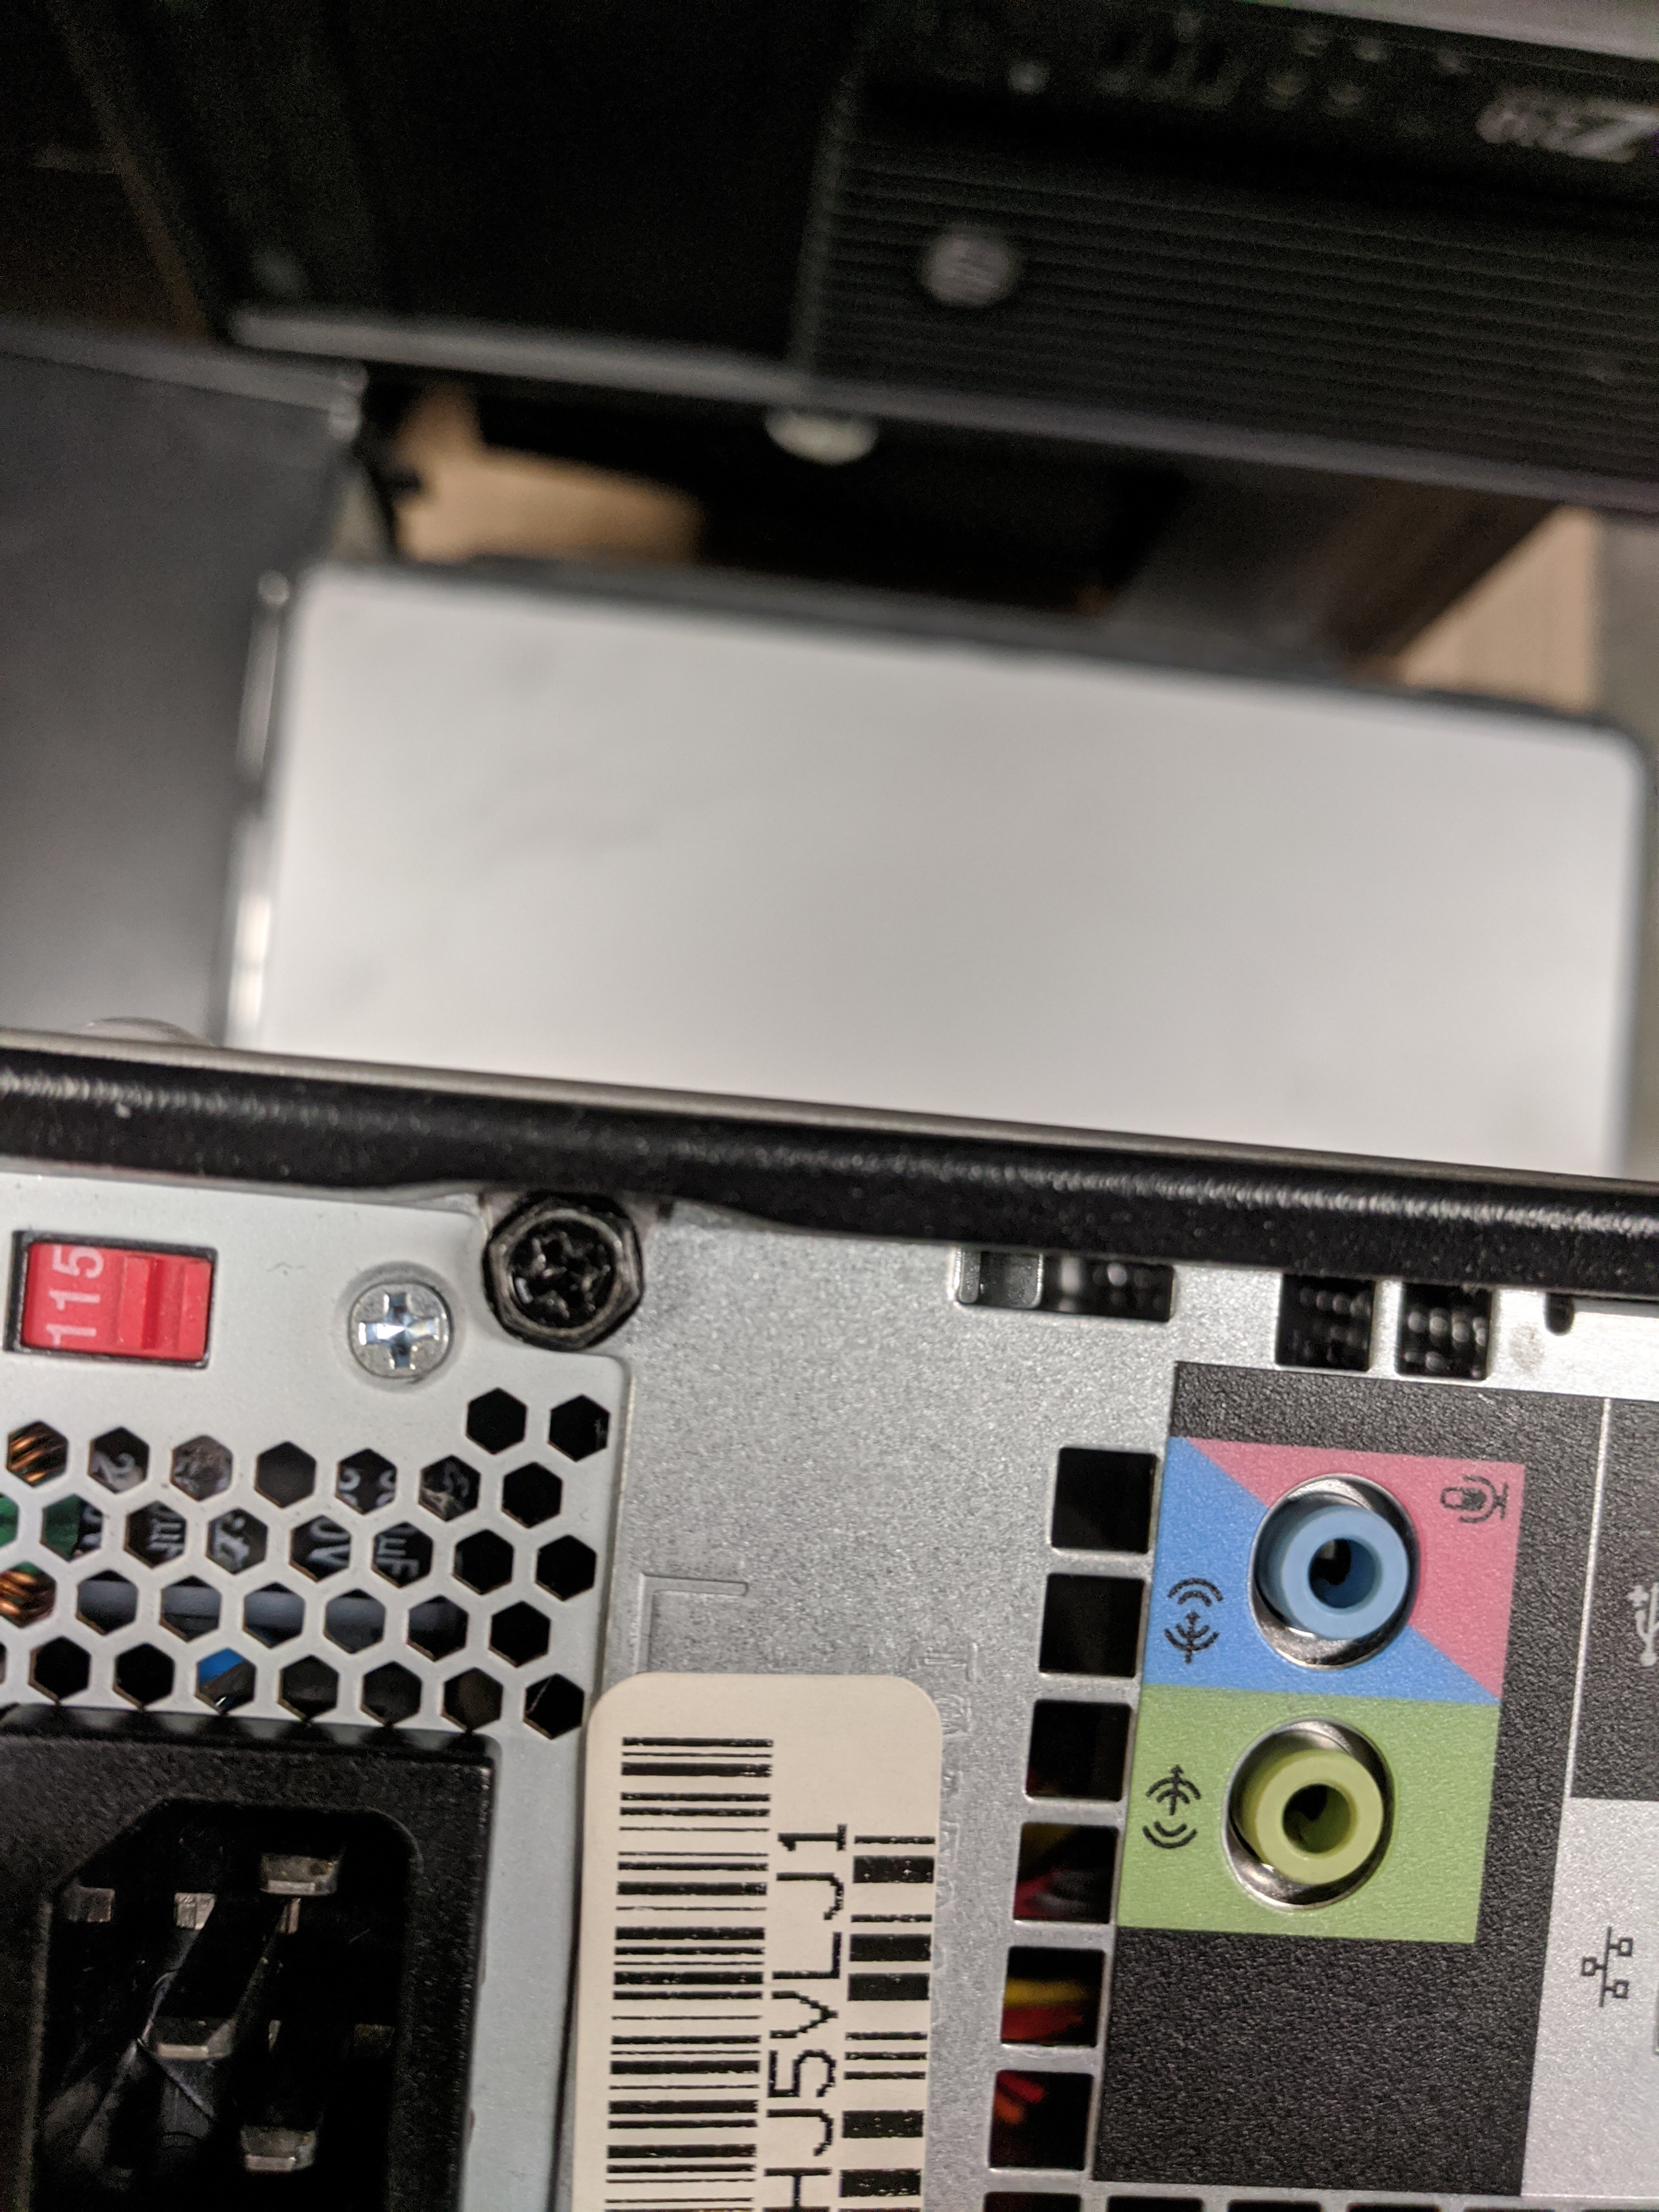cross_recessed_screw: (484, 1207, 633, 1341), (343, 1284, 460, 1388)
